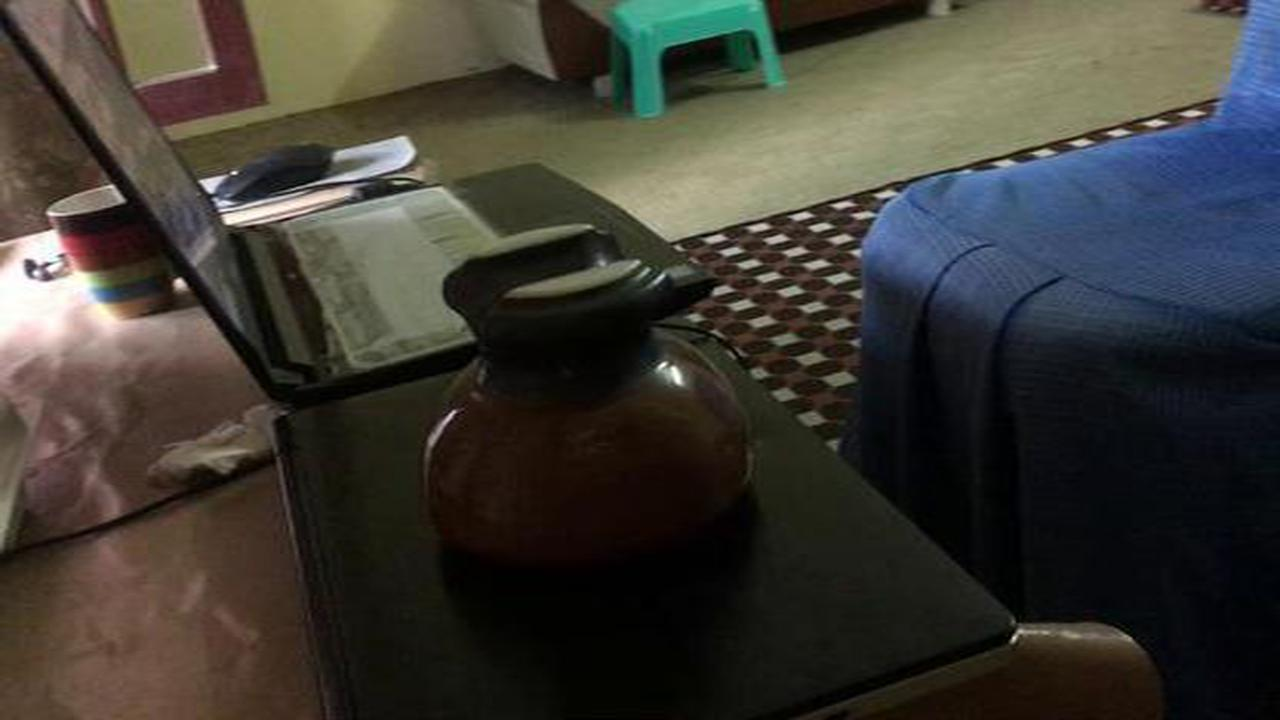insulator_pin: (401, 212, 770, 599)
